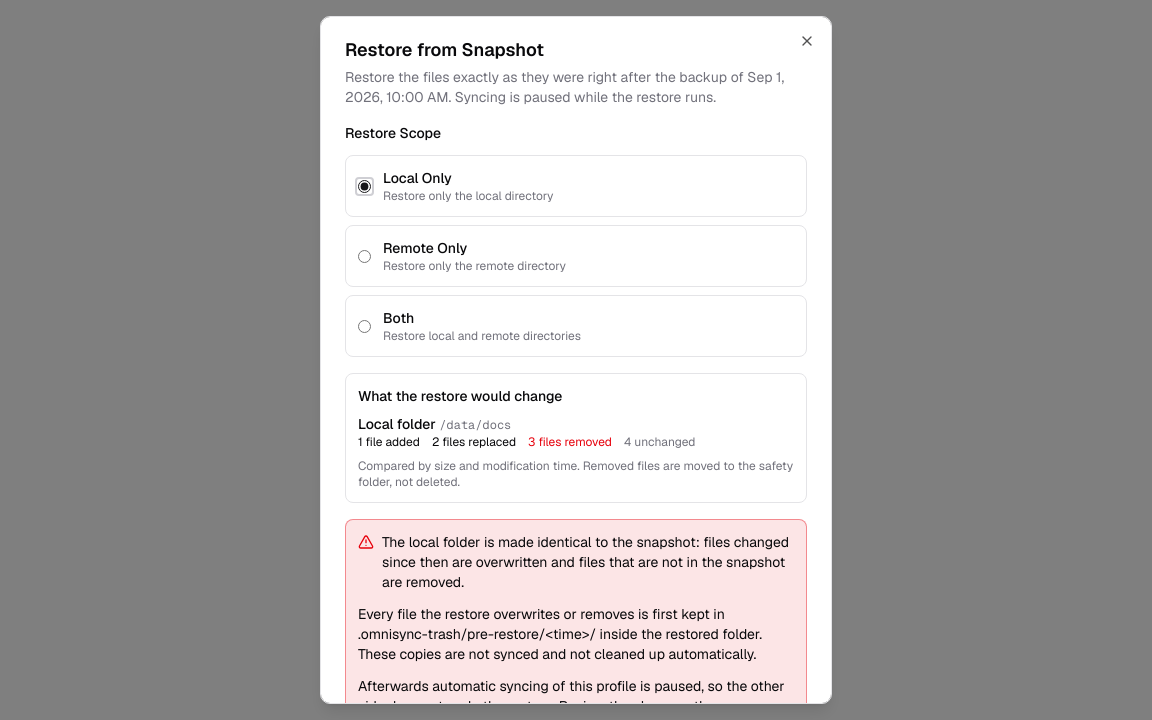
Test: RestoreDialog preview › shows what the restore would change for the chosen scope before restoring
This screenshot has width=1152, height=720.
Check: the text "3 files removed" is shown, box [528,434,612,450]
Check: the dialog shows "Local folder", box [358,415,436,433]
Click the radio button labelled "Both Restore local and remote directories" at (364, 326), box [358,320,371,332]
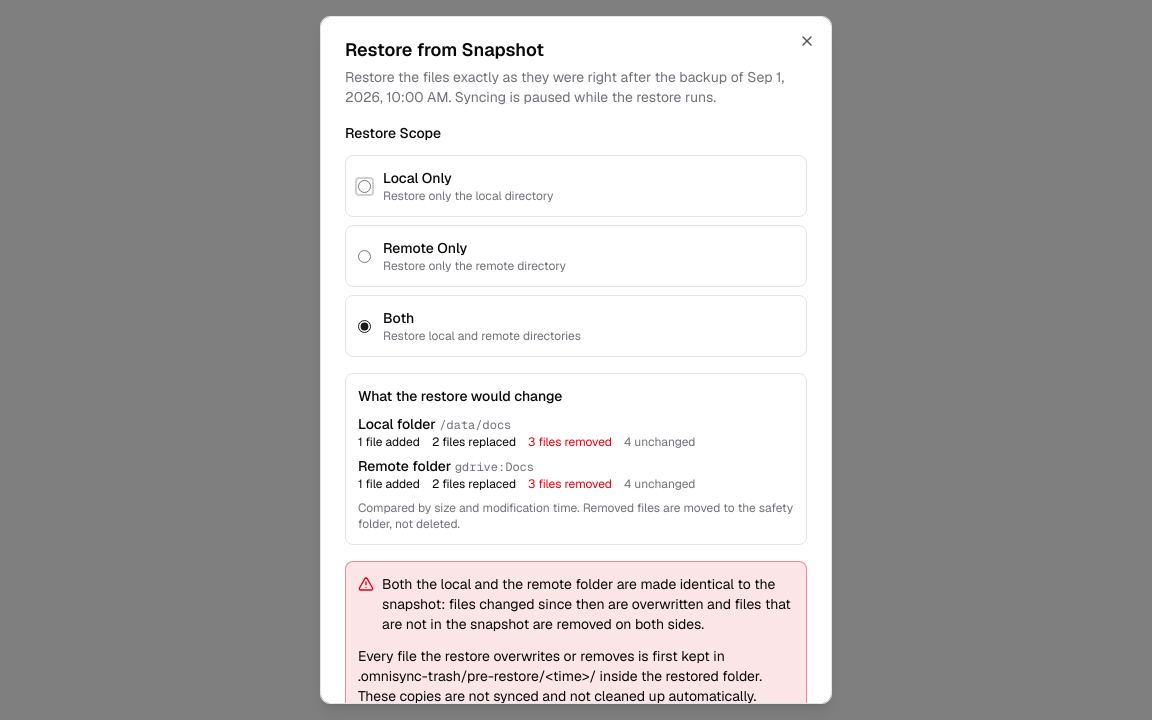
Check: the text "Remote folder" is shown, box [358,457,451,475]
